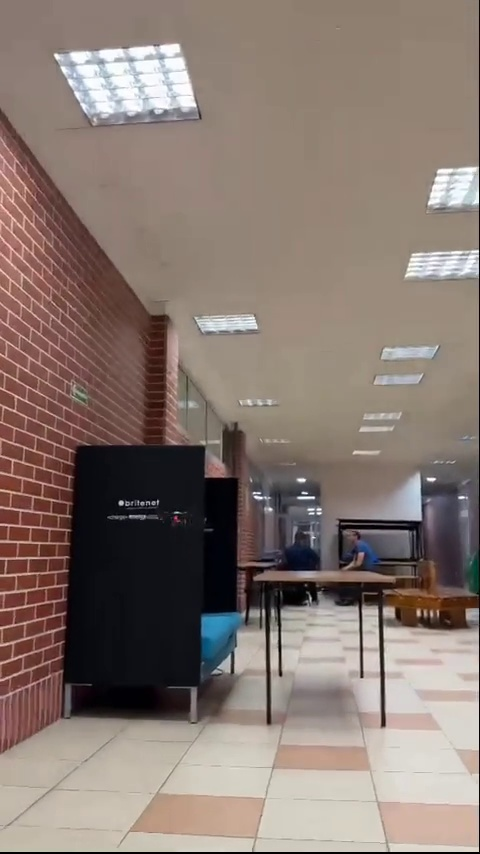drone: (160, 512, 202, 530)
no vest: (282, 530, 324, 573), (339, 525, 373, 566)
